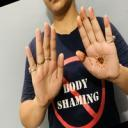hand: (75, 5, 120, 80), (25, 22, 64, 106)
